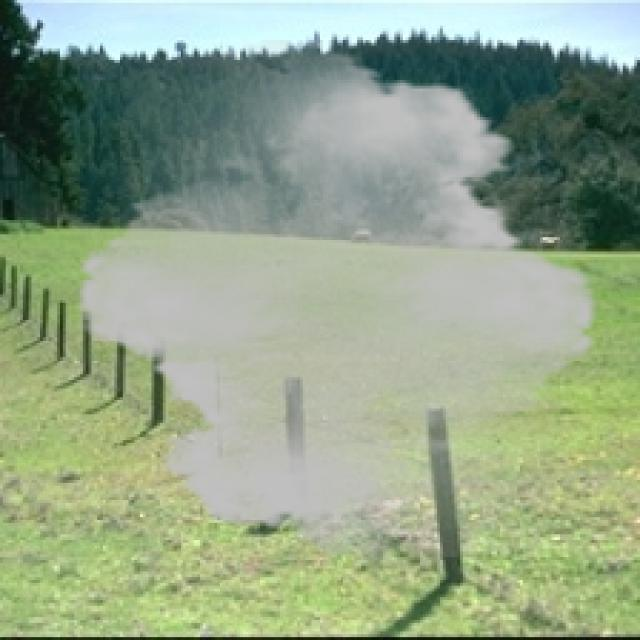smoke: (54, 40, 620, 569)
